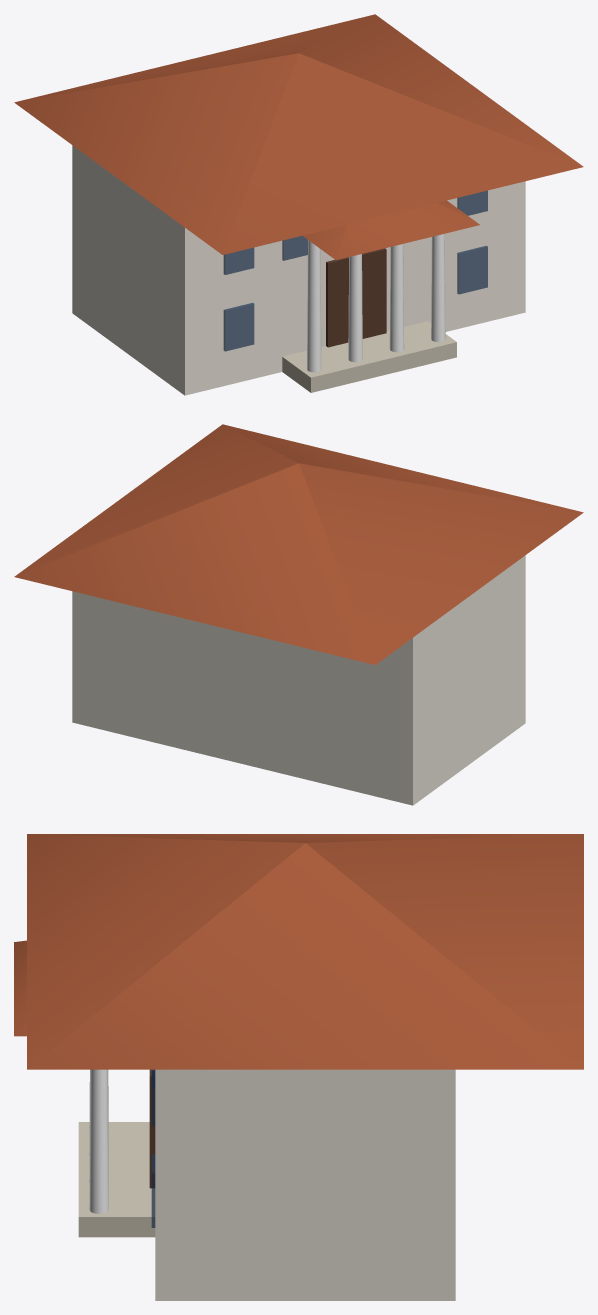
The model's file is legon_hall.glb.
3 renders of one model, top to bottom at view 1: azimuth 30°, elevation 25°; view 2: azimuth 150°, elevation 25°; view 3: azimuth 270°, elevation 25°, orthographic. The views are drawn at different scales.
Visible parts, largest first — view 1: LegonHall; view 2: LegonHall; view 3: LegonHall.
Boxes of the visible parts, x1,y1,x2,y2 form: LegonHall: (14,14,583,395); LegonHall: (14,424,583,805); LegonHall: (14,834,583,1300).
Bounding box in the file's own units: 14.85 × 10.2 × 15.19.
